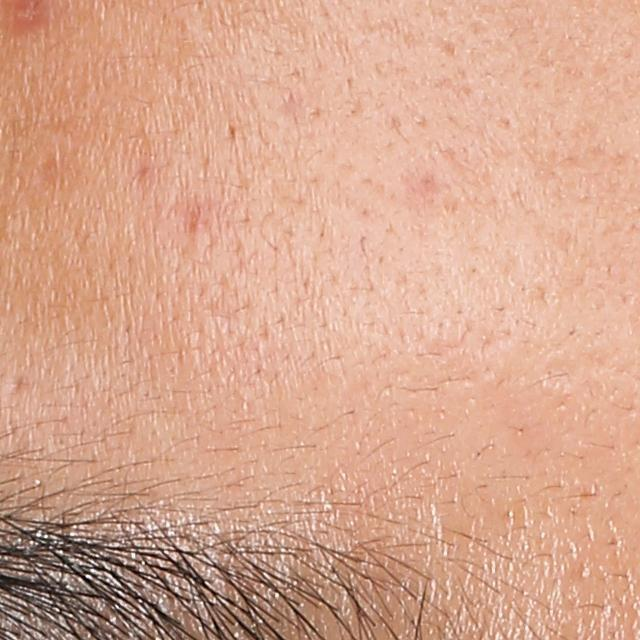atrophic_scar: (6, 374, 30, 400)
